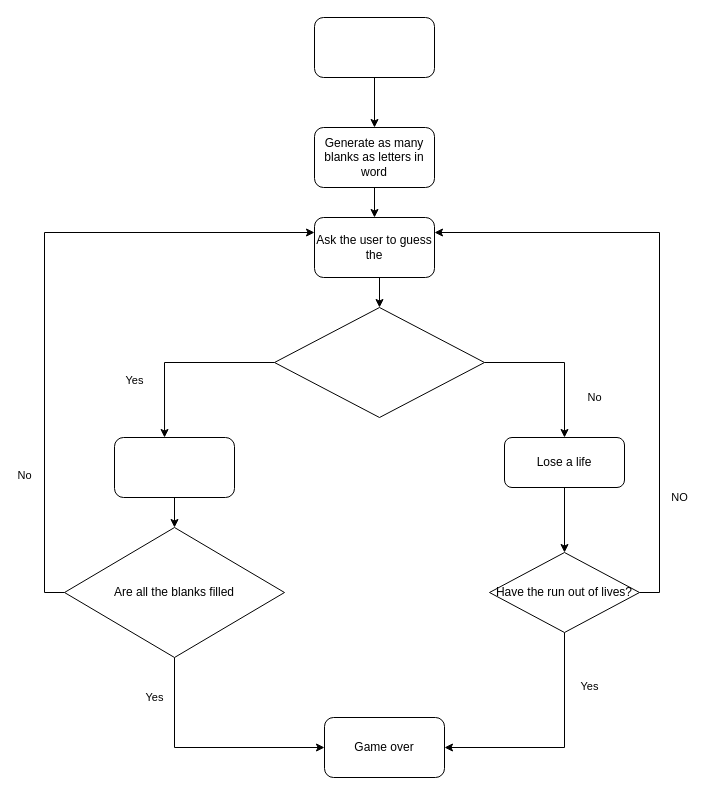
Image size: 705x795. Some labels were removed from this diagram. Here are the shapes that lost their labels. From the top down, the box of each, then its label:
(314, 16, 434, 78): Generate a random word
(274, 306, 484, 418): Is the guessed letter in the word
(114, 436, 234, 498): Replace the blank with the letter
